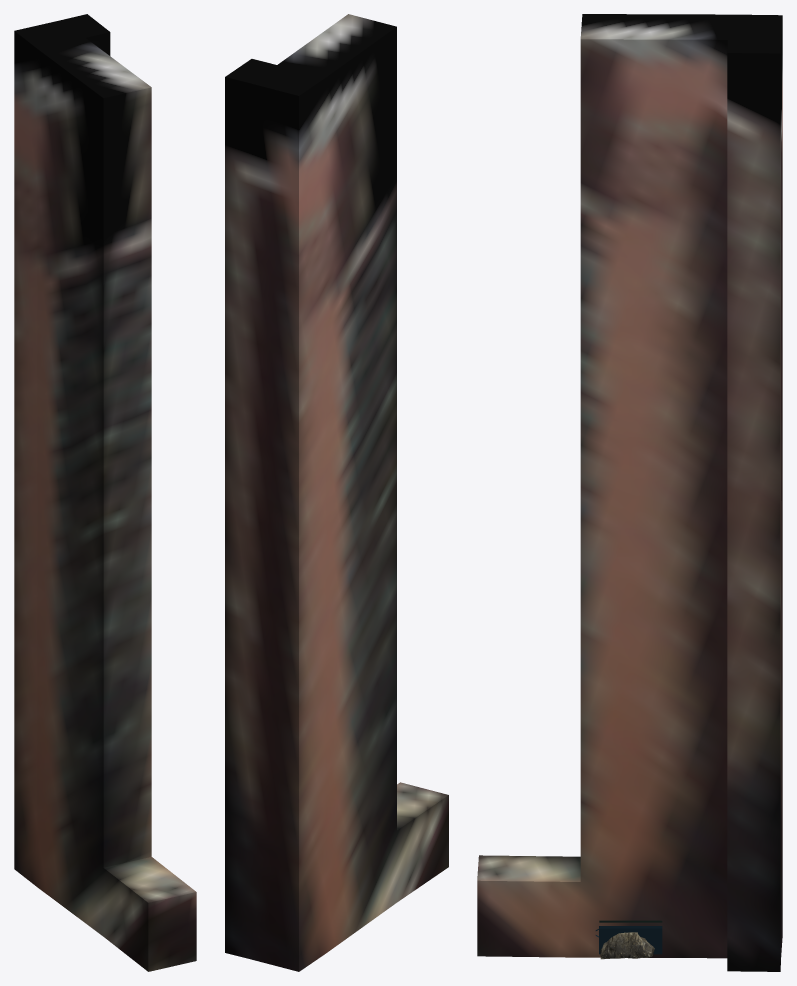
File: detroit-scenery.glb
3 views of the same model, side by side, from view 1: azimuth 30°, elevation 25°; view 2: azimuth 150°, elevation 25°; view 3: azimuth 270°, elevation 25° (orthographic). The views are drawn at different scales.
Parts seen in each view (by area): view 1: CityFacade__LOD0; view 2: CityFacade__LOD0; view 3: CityFacade__LOD0, ShoreRock__LOD0, ParkBin__LOD0.
Part boxes in pixels (x1,y1,x2,y2): CityFacade__LOD0: (14,14,196,971); CityFacade__LOD0: (225,14,448,971); CityFacade__LOD0: (477,14,782,971); ShoreRock__LOD0: (600,932,654,959); ParkBin__LOD0: (595,920,662,954).
Size of what is drawn, in the model's own units: 1.63 by 17 by 5.13.
Materials: 1 (1 with a texture image).
